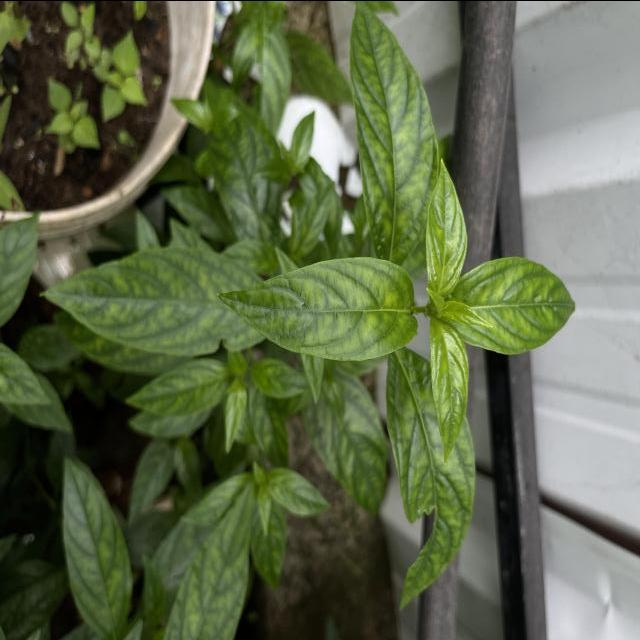Andrographis paniculata: (346, 1, 441, 277), (383, 350, 478, 614), (214, 253, 419, 364), (38, 246, 222, 358), (59, 451, 134, 640), (302, 367, 390, 514), (450, 253, 578, 354), (124, 356, 230, 418), (428, 317, 471, 465), (425, 156, 469, 298), (267, 464, 332, 516), (248, 356, 308, 397)
